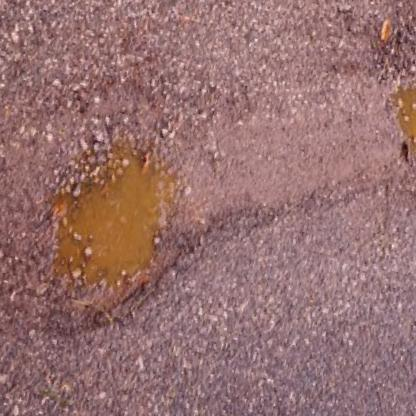pothole: (15, 106, 208, 360), (359, 21, 416, 224)
